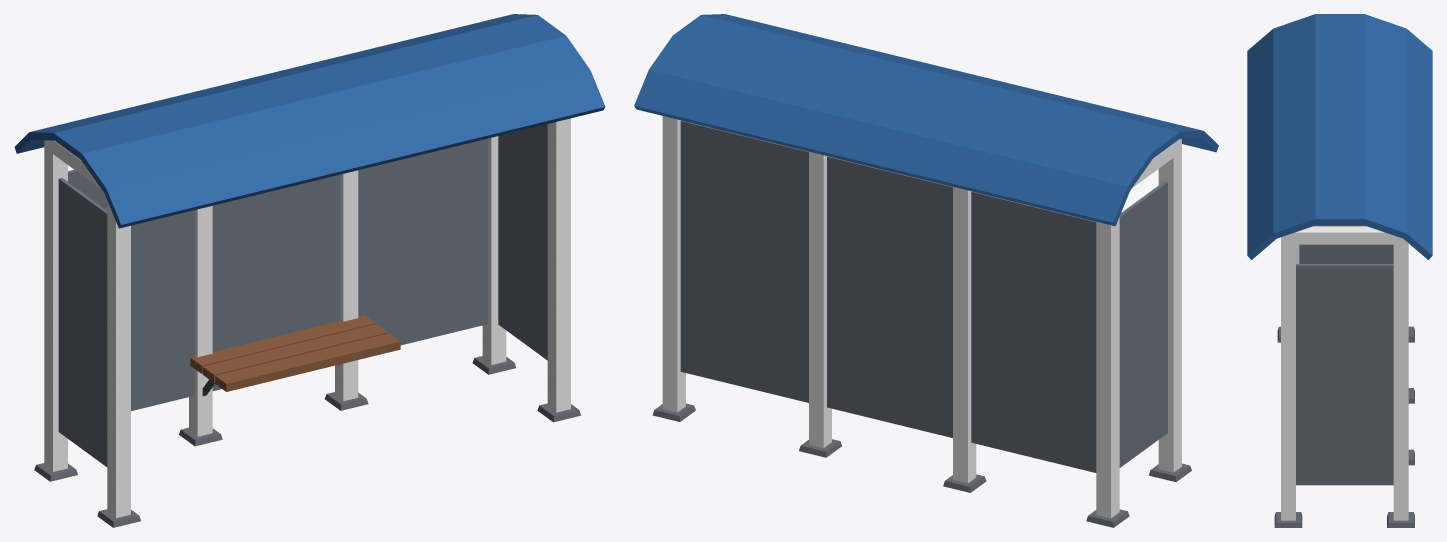
The model's file is Bus  Stop_1.fbx.
The picture shows the model from 3 angles, left to right: view 1: azimuth 30°, elevation 25°; view 2: azimuth 150°, elevation 25°; view 3: azimuth 270°, elevation 25°; orthographic projection. The views are drawn at different scales.
Parts seen in each view (by area): view 1: Bus Stop_1; view 2: Bus Stop_1; view 3: Bus Stop_1.
Part boxes in pixels (box(x1,y1,x2,y2)): Bus Stop_1: box(14, 14, 605, 527); Bus Stop_1: box(634, 14, 1218, 527); Bus Stop_1: box(1247, 14, 1432, 527).
Bounding box in the file's own units: 462 × 329 × 177.
